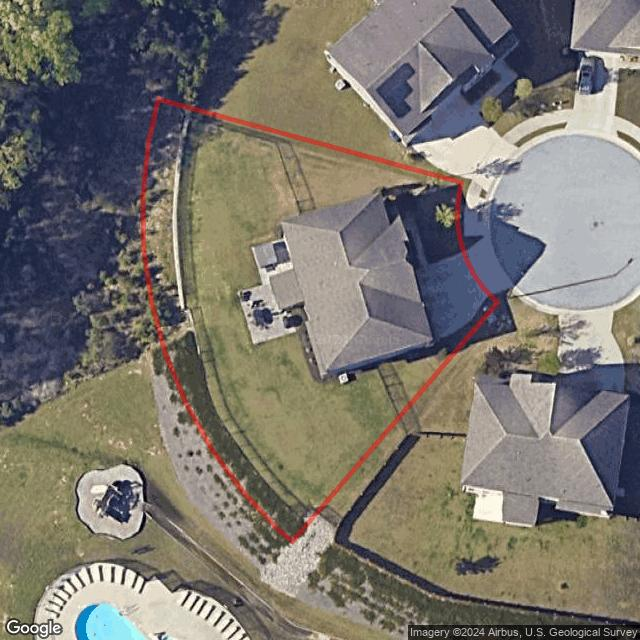Driveway: (412, 250, 488, 343)
Extra-Driveway: (464, 231, 518, 295)
Extra-Lawn: (457, 181, 485, 252)
Extra-Sidewalk: (463, 183, 491, 236)
House: (269, 191, 435, 375)
Lawn: (144, 98, 497, 543)
Other: (236, 239, 322, 383), (172, 107, 197, 312), (338, 373, 350, 385)
Sidewalk: (402, 217, 429, 266)
